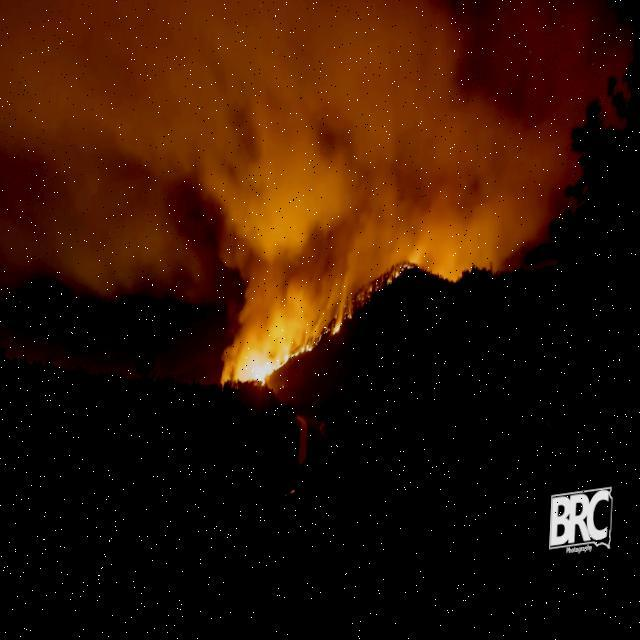Fire: (249, 332, 333, 393), (370, 274, 418, 308), (336, 333, 344, 346), (350, 324, 356, 332)
